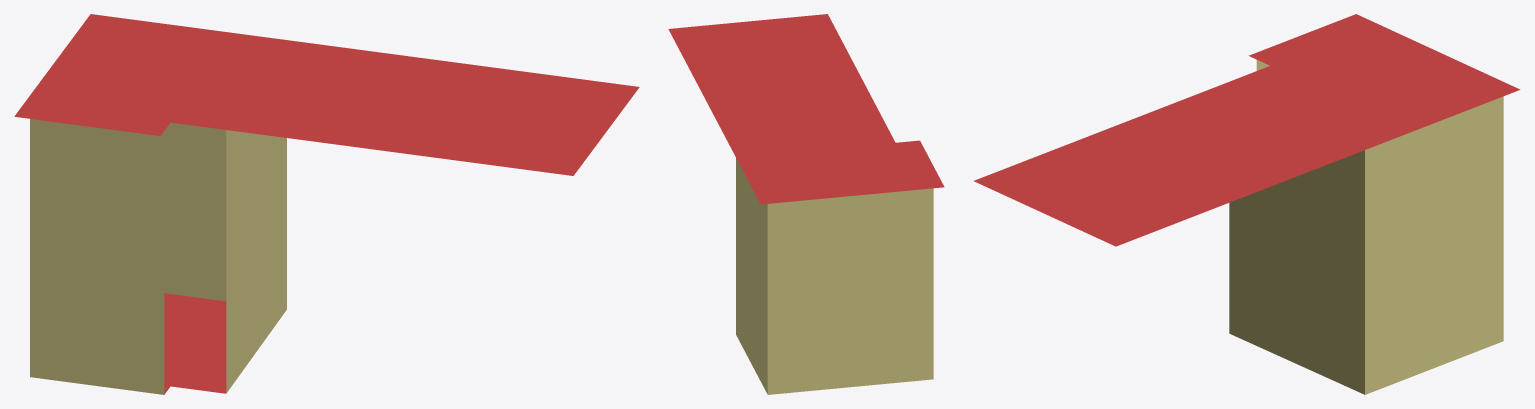
3 renders of one model, left to right at view 1: azimuth 30°, elevation 25°; view 2: azimuth 150°, elevation 25°; view 3: azimuth 270°, elevation 25°, orthographic. The views are drawn at different scales.
Bounding box in the file's own units: 11.49 × 11.42 × 5.8.
